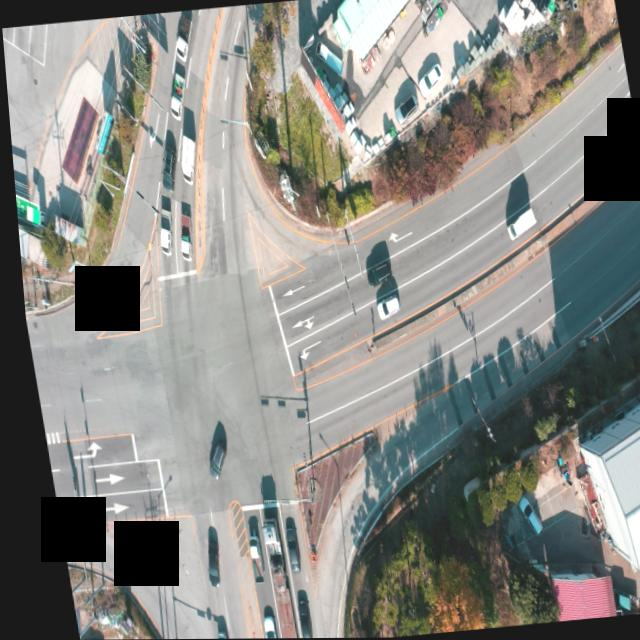car: (410, 53, 443, 102), (188, 526, 213, 589), (151, 135, 177, 192), (385, 83, 419, 125), (196, 436, 223, 478), (508, 491, 533, 534), (281, 592, 302, 639), (271, 521, 288, 572), (357, 258, 386, 287), (367, 293, 395, 319), (249, 614, 264, 639), (66, 630, 93, 640), (203, 630, 214, 639)
large_truck: (248, 513, 289, 639)
small_truck: (170, 130, 201, 186), (167, 9, 198, 61), (310, 35, 345, 73), (231, 531, 256, 584), (498, 204, 533, 240), (169, 204, 191, 258), (147, 204, 169, 255), (163, 76, 186, 117), (601, 585, 631, 616)
